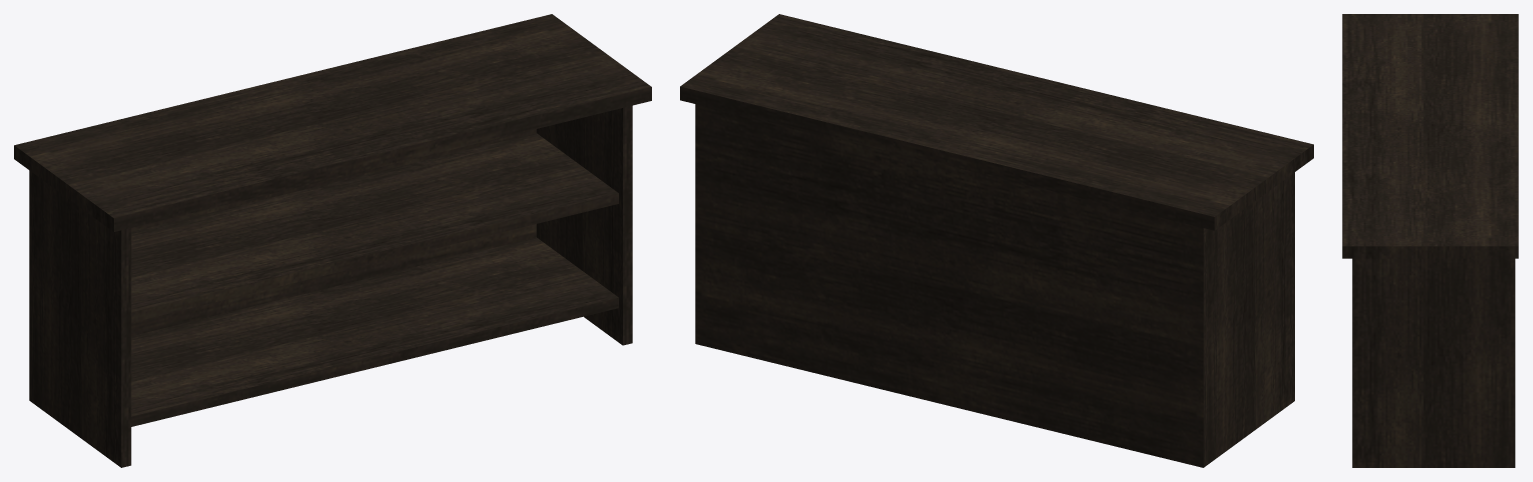
The model's file is tv_table_1_2.fbx.
3 renders of one model, left to right at view 1: azimuth 30°, elevation 25°; view 2: azimuth 150°, elevation 25°; view 3: azimuth 270°, elevation 25°, orthographic. The views are drawn at different scales.
Parts seen in each view (by area): view 1: tv_table_1_2; view 2: tv_table_1_2; view 3: tv_table_1_2.
Part boxes in pixels (<box>): tv_table_1_2: <box>14,14,651,467</box>; tv_table_1_2: <box>680,14,1313,467</box>; tv_table_1_2: <box>1342,14,1518,467</box>.
Bounding box in the file's own units: 1.62 × 0.52 × 0.74.
